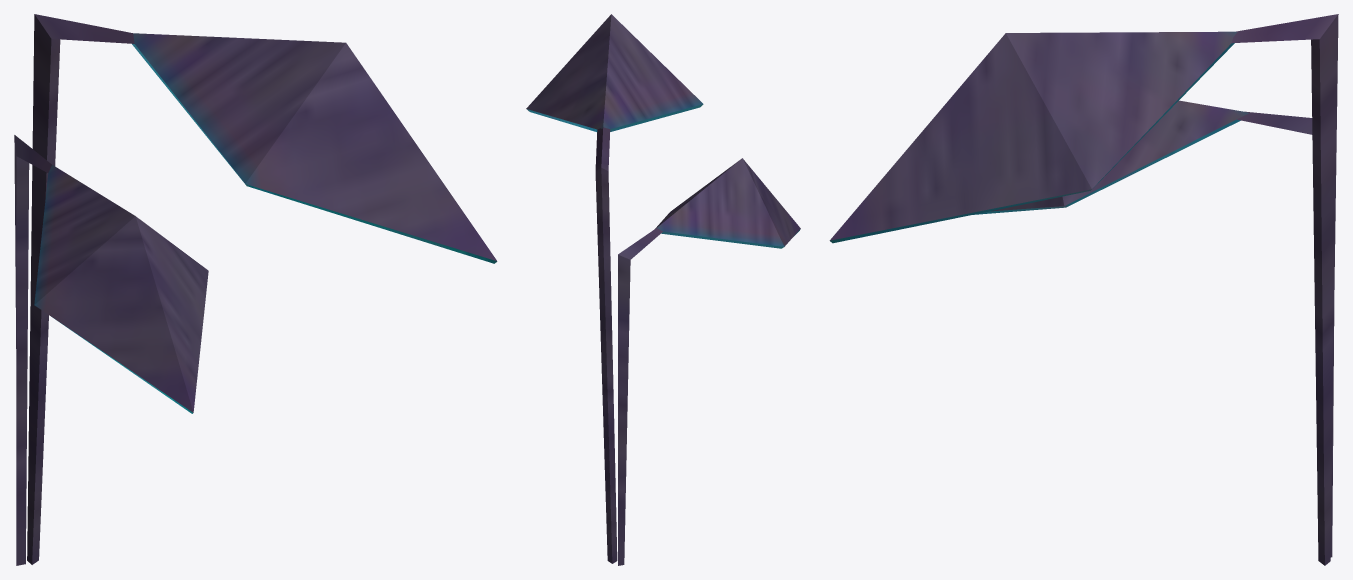
The model's file is pm-colony-flower.glb.
3 views of the same model, side by side, from view 1: azimuth 30°, elevation 25°; view 2: azimuth 150°, elevation 25°; view 3: azimuth 270°, elevation 25° (orthographic). The views are drawn at different scales.
Parts seen in each view (by area): view 1: Colony_Flower_Art; view 2: Colony_Flower_Art; view 3: Colony_Flower_Art.
Part boxes in pixels (x1,y1,x2,y2): Colony_Flower_Art: (14,14,497,565); Colony_Flower_Art: (526,14,800,565); Colony_Flower_Art: (829,14,1338,565).
Bounding box in the file's own units: 0.8171 × 1.33 × 1.01.
Materials: 1 (1 with a texture image).
